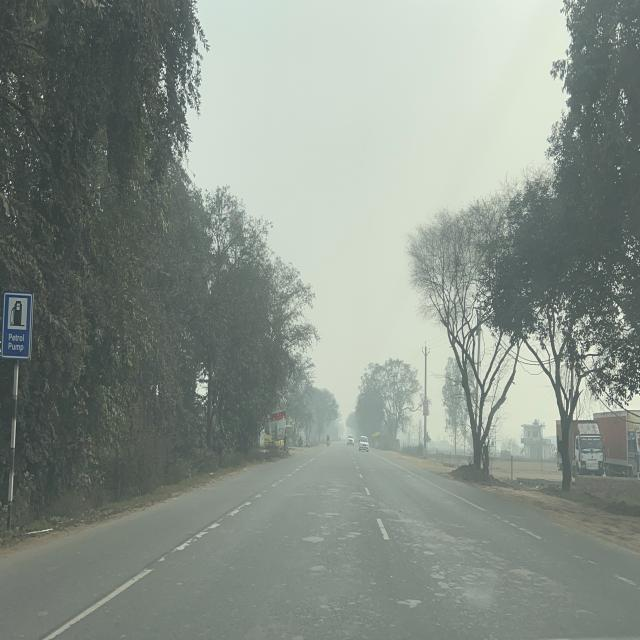INFORMATION: (0, 290, 33, 360)
